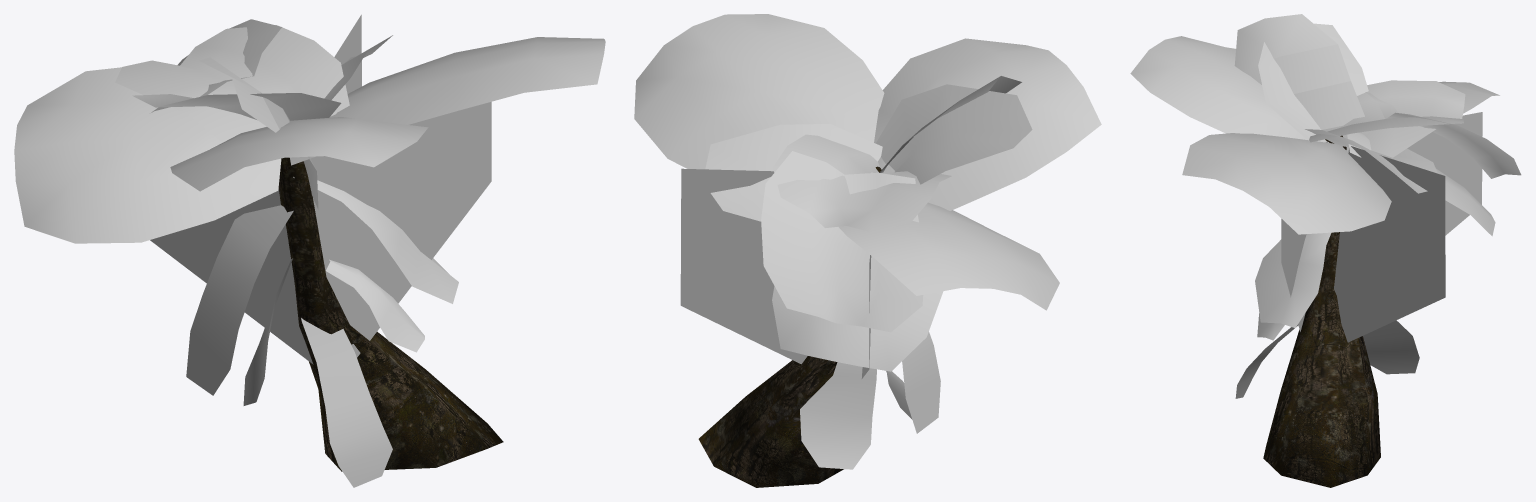
File: mogarg03.FBX
3 views of the same model, side by side, from view 1: azimuth 30°, elevation 25°; view 2: azimuth 150°, elevation 25°; view 3: azimuth 270°, elevation 25° (orthographic). The views are drawn at different scales.
Visible parts, largest first — view 1: leaves__2, vines__2, mogarg03; view 2: leaves__2, vines__2, mogarg03; view 3: leaves__2, vines__2, mogarg03.
Boxes of the visible parts, x1,y1,x2,y2 form: leaves__2: (14,19,605,487); vines__2: (150,14,491,364); mogarg03: (278,157,503,471); leaves__2: (634,14,1101,469); vines__2: (680,168,871,378); mogarg03: (698,166,881,487); leaves__2: (1130,14,1521,398); vines__2: (1281,112,1482,342); mogarg03: (1263,135,1380,487).
Bounding box in the file's own units: 24.4 × 20.69 × 20.25.
